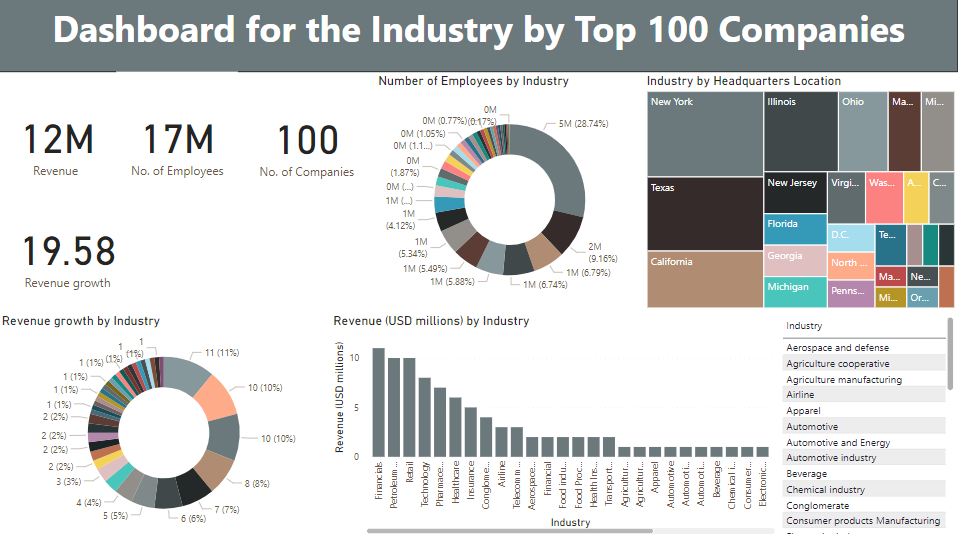

The page's visual inventory and layout, read from the dashboard file:
{"tool":"powerbi","page":{"name":"Page 1","canvas":[1280,720],"ordinal":0},"visuals":[{"type":"card","fields":{"Values":["Sum(Top_Companies.Revenue (USD millions))"]},"box":[0,98.3,157.4,187.6],"z":1000},{"type":"textbox","box":[0,0,1280,98.3],"z":2000},{"type":"card","fields":{"Values":["CountNonNull(Top_Companies.Industry)"]},"box":[319.2,99.9,183.1,186.1],"z":3000},{"type":"donutChart","fields":{"Category":["Top_Companies.Industry"],"Y":["Sum(Top_Companies.Employees)"]},"box":[501.7,100,360,318.3],"z":6000},{"type":"donutChart","fields":{"Category":["Top_Companies.Industry"],"Y":["CountNonNull(Top_Companies.Revenue growth)"]},"box":[0,420.6,441.8,299.6],"z":7001},{"type":"clusteredColumnChart","fields":{"Category":["Top_Companies.Industry"],"Y":["CountNonNull(Top_Companies.Revenue (USD millions))"]},"box":[441.8,420.6,599.1,299.6],"z":7002},{"type":"card","fields":{"Values":["Sum(Top_Companies.Employees)"]},"box":[157.4,98.3,161.9,187.6],"z":7003},{"type":"tableEx","fields":{"Values":["Top_Companies.Industry"]},"box":[1040.9,419.1,239.1,301.1],"z":7004},{"type":"treemap","fields":{"Group":["Top_Companies.Headquarters"],"Values":["CountNonNull(Top_Companies.Industry)"]},"box":[860,100,420,318.3],"z":7005},{"type":"card","fields":{"Values":["Sum(Top_Companies.Revenue growth)"]},"box":[0,261.7,185,156.7],"z":7006}]}

Visuals, with their boxes in screenshot pixels (x1, y1, x2, y2), scaled from the page's 1280x720 canvas onto the 958x536 screenshot:
card - Sum(Top_Companies.Revenue (USD millions)): bbox=(0, 73, 118, 213)
textbox: bbox=(0, 0, 957, 73)
card - CountNonNull(Top_Companies.Industry): bbox=(239, 74, 376, 213)
donutChart - Top_Companies.Industry x Sum(Top_Companies.Employees): bbox=(375, 74, 645, 311)
donutChart - Top_Companies.Industry x CountNonNull(Top_Companies.Revenue growth): bbox=(0, 313, 331, 535)
clusteredColumnChart - Top_Companies.Industry x CountNonNull(Top_Companies.Revenue (USD millions)): bbox=(331, 313, 779, 535)
card - Sum(Top_Companies.Employees): bbox=(118, 73, 239, 213)
tableEx - Top_Companies.Industry: bbox=(779, 312, 957, 535)
treemap - Top_Companies.Headquarters x CountNonNull(Top_Companies.Industry): bbox=(644, 74, 957, 311)
card - Sum(Top_Companies.Revenue growth): bbox=(0, 195, 138, 311)
